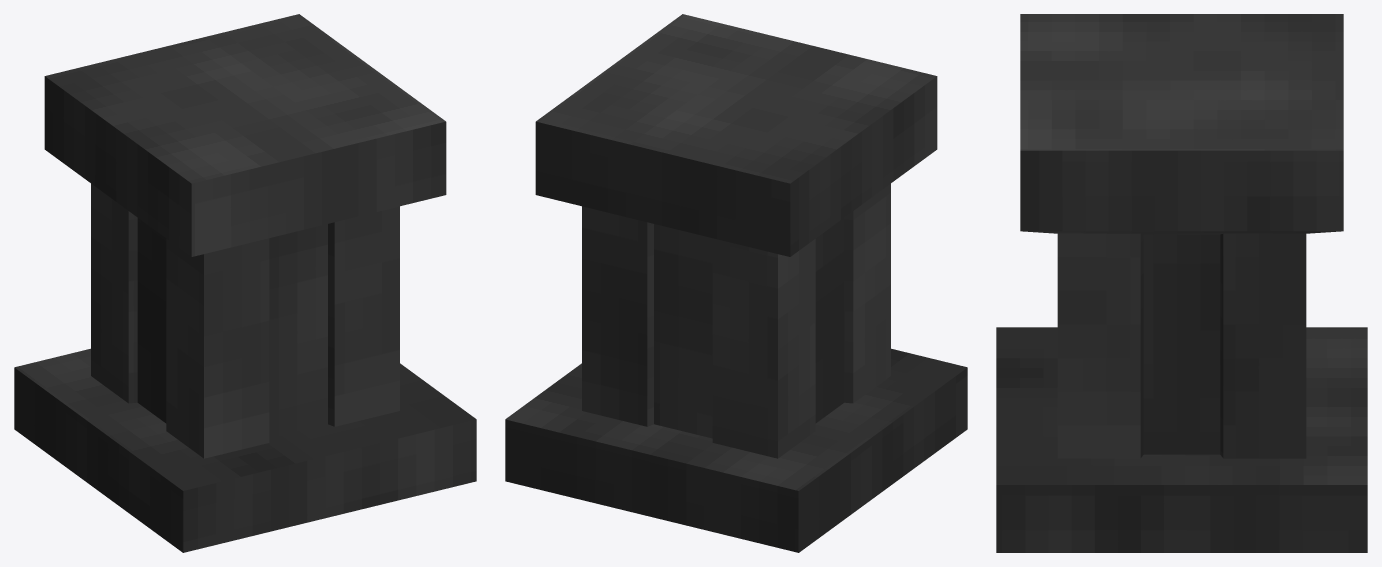
The model's file is pedestal.obj.
The picture shows the model from 3 angles, left to right: view 1: azimuth 30°, elevation 25°; view 2: azimuth 150°, elevation 25°; view 3: azimuth 270°, elevation 25°; orthographic projection. The views are drawn at different scales.
Parts seen in each view (by area): view 1: Cube; view 2: Cube; view 3: Cube.
Part boxes in pixels (x1,y1,x2,y2): Cube: [14, 14, 476, 552]; Cube: [505, 14, 967, 552]; Cube: [996, 14, 1367, 552].
Bounding box in the file's own units: 3.25 × 3.77 × 3.24.
